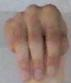M: (1, 0, 71, 83)
